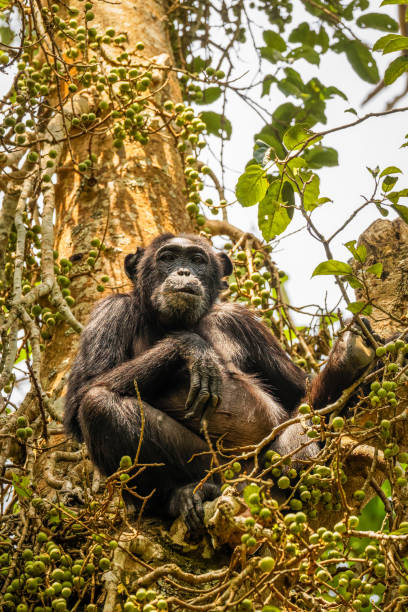chimpanzee: (82, 210, 250, 358)
